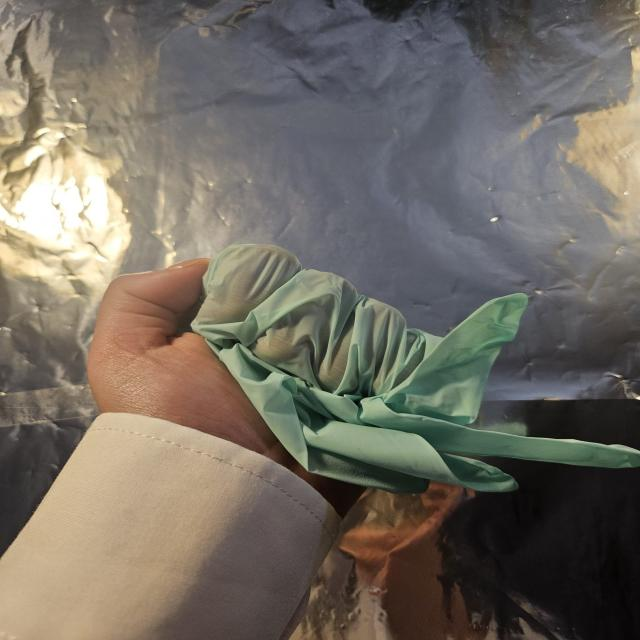glove_partial: (84, 242, 640, 512)
